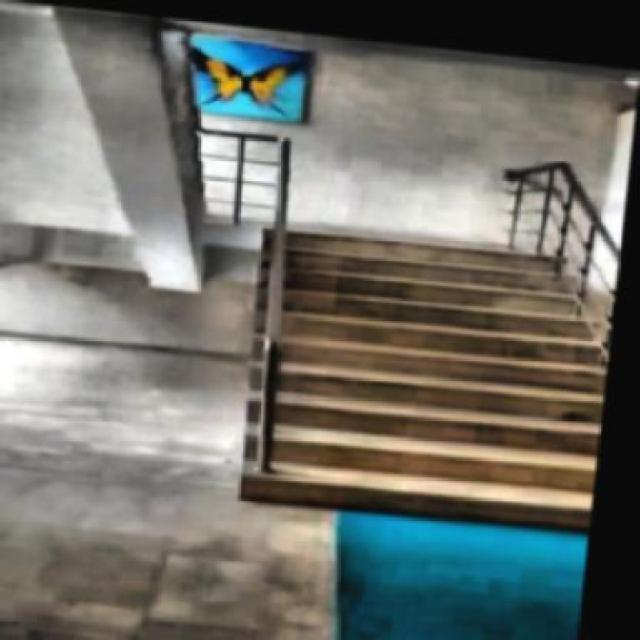stair: (238, 216, 622, 524)
